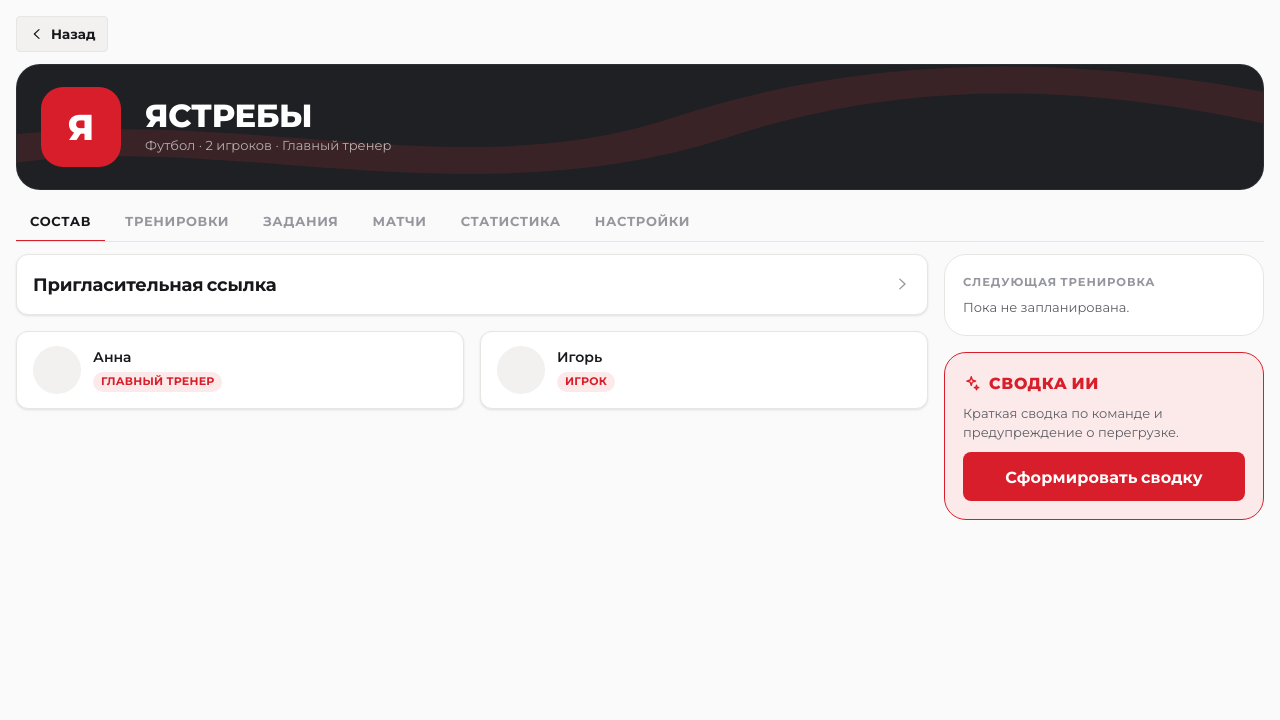
Scenario: inviting players from the roster › expands on a press and collapses again on the next
Click the button "Пригласительная ссылка". click: (155, 284)
box: [33, 271, 911, 298]
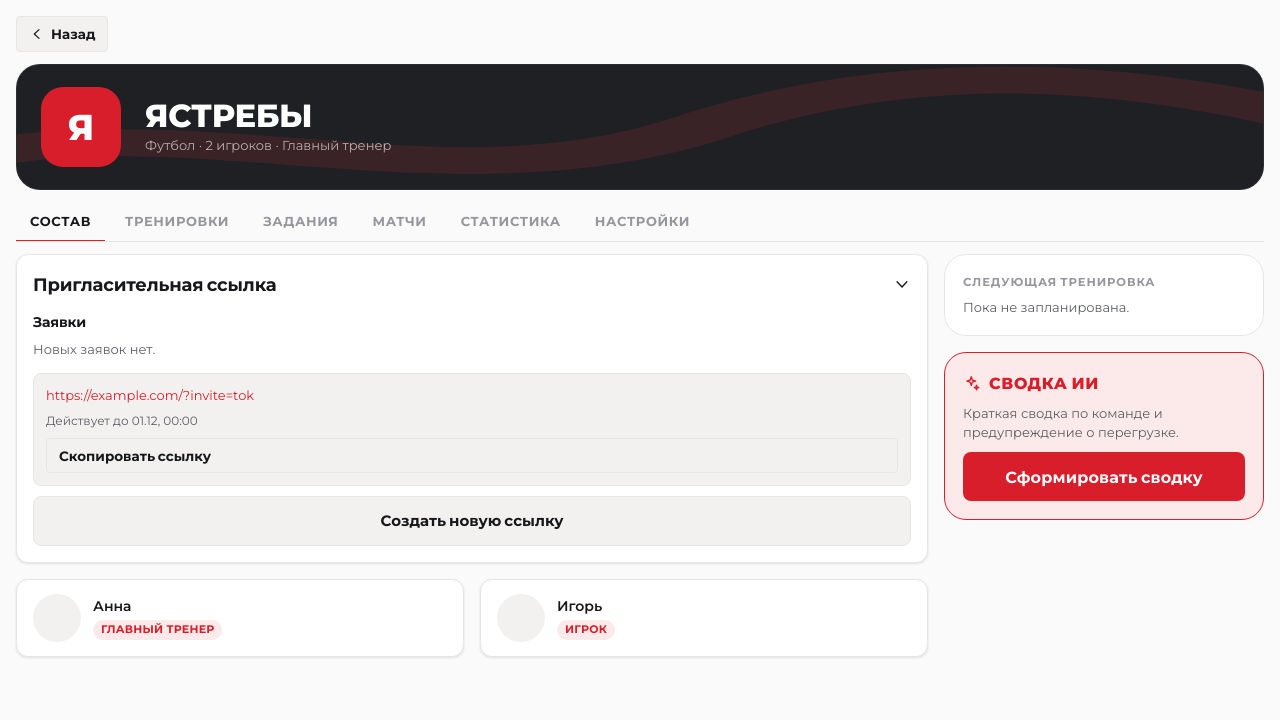
Check: the button "Пригласительная ссылка" is expanded
Check: the text "https://example.com/?invite=tok" is shown, box [46, 387, 254, 403]
Click the button "Пригласительная ссылка". click: (155, 284)
box: [33, 271, 911, 298]
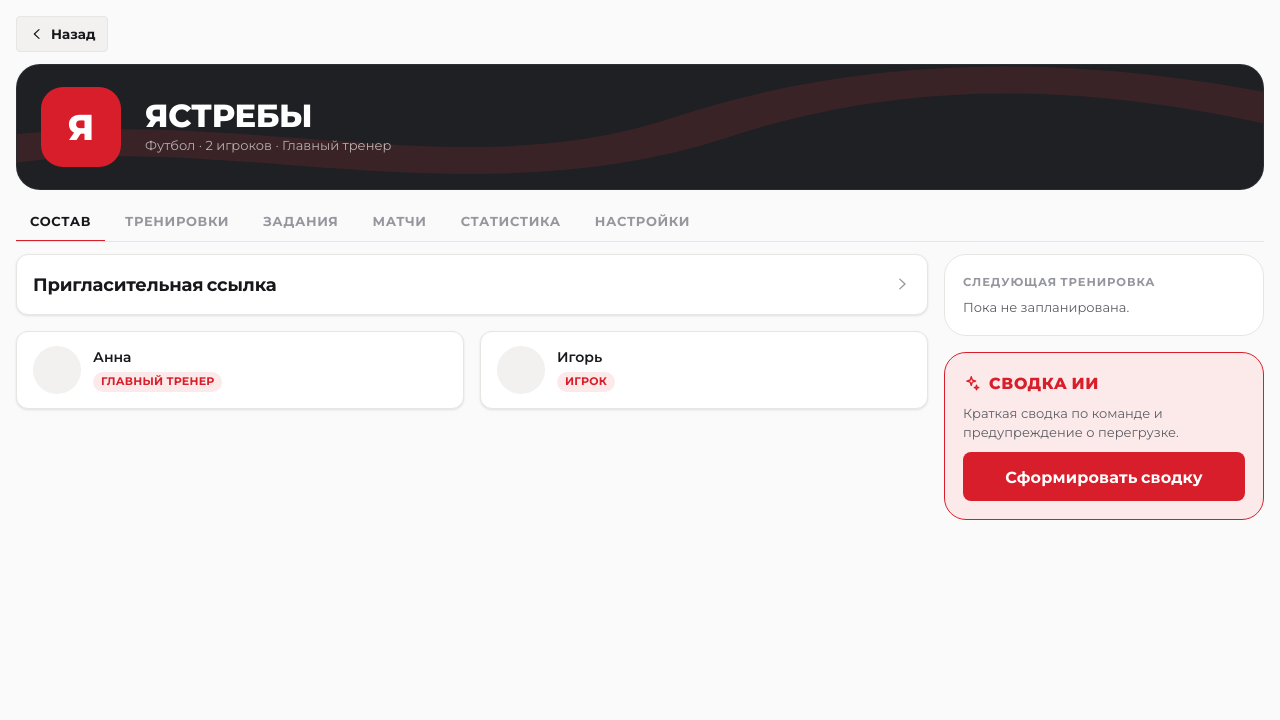
Check: the button "Создать новую ссылку" is gone
